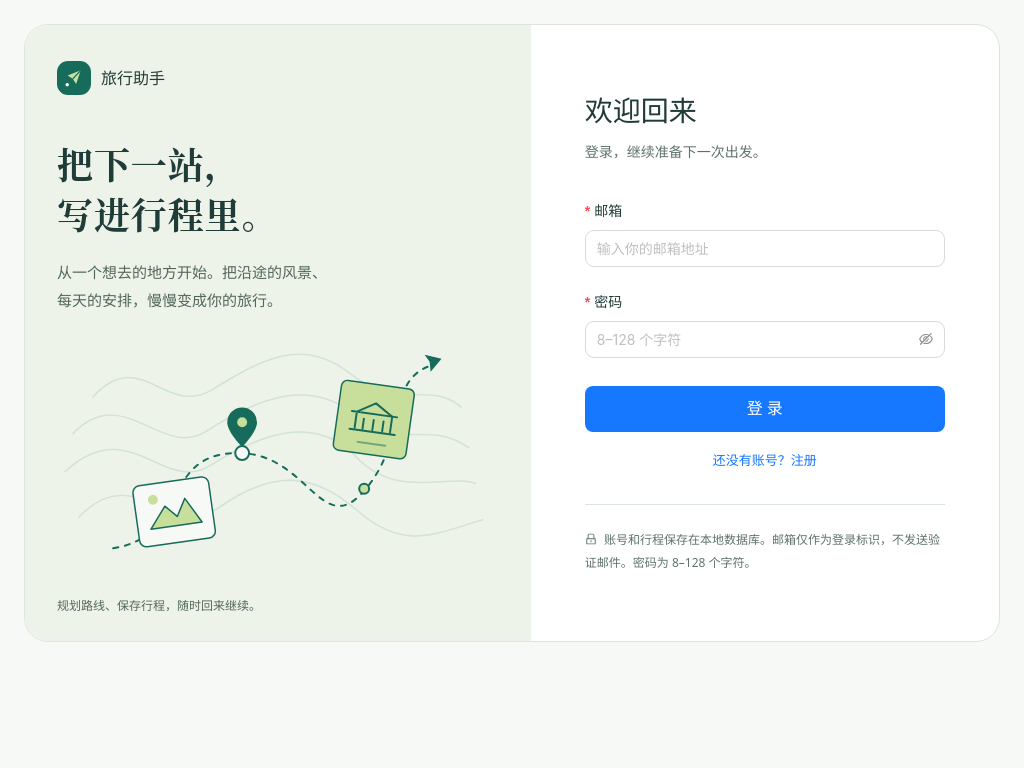
local login form submission › shows validation feedback without sending invalid credentials ()
Click the submit button: (765, 409) [585, 386, 945, 432]
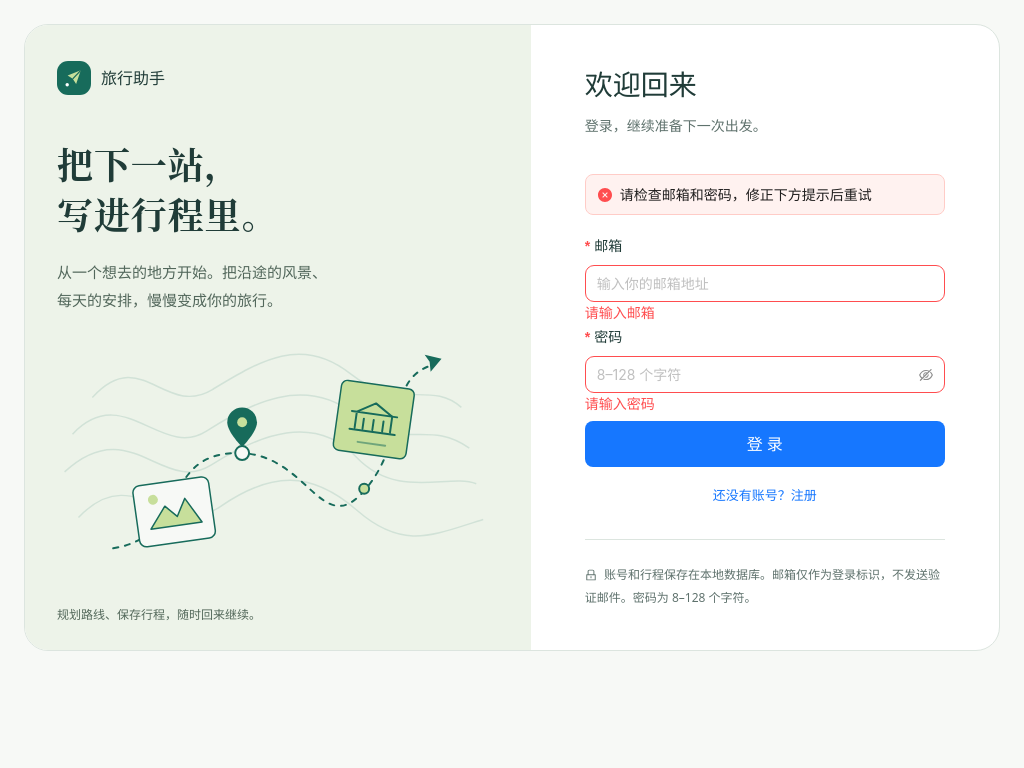
Now the text "请输入邮箱" is shown, box [585, 304, 655, 321]
Now the text "请检查邮箱和密码" is shown, box [620, 186, 872, 203]
